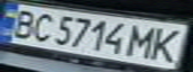1: (84, 18, 109, 53)
4: (103, 20, 130, 56)
5: (48, 14, 75, 47)
7: (66, 16, 90, 51)
B: (3, 7, 42, 39)
C: (24, 11, 60, 43)
K: (145, 25, 190, 62)
M: (124, 22, 163, 60)
